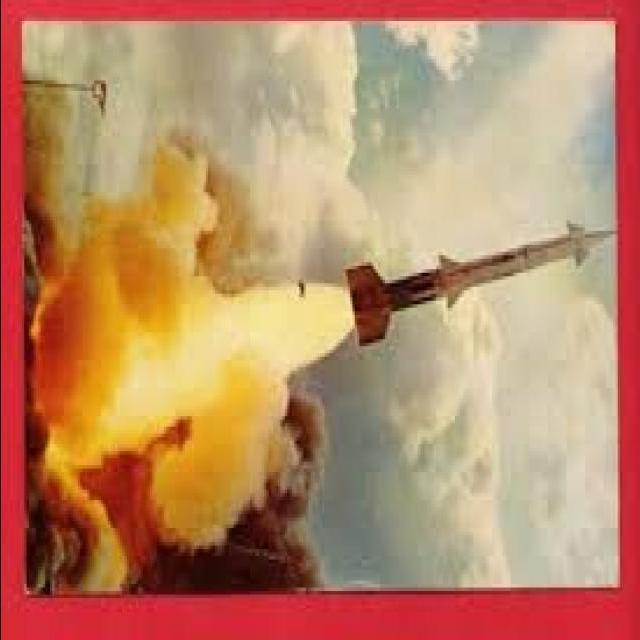missile: (336, 213, 623, 354)
